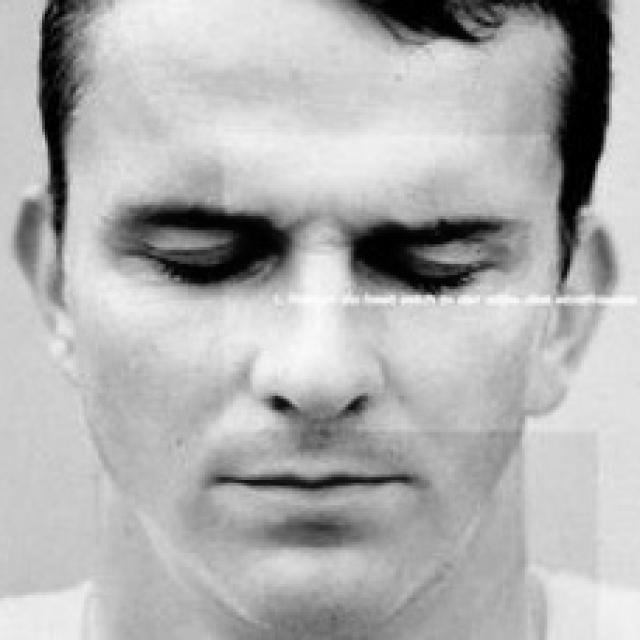real: (62, 12, 564, 634), (132, 204, 527, 312)
